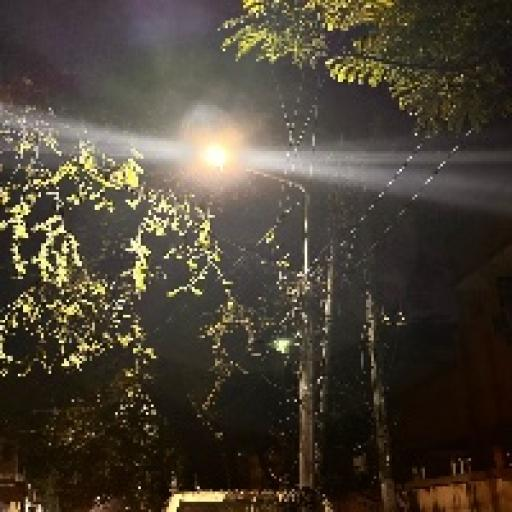Working: (191, 132, 237, 182)
